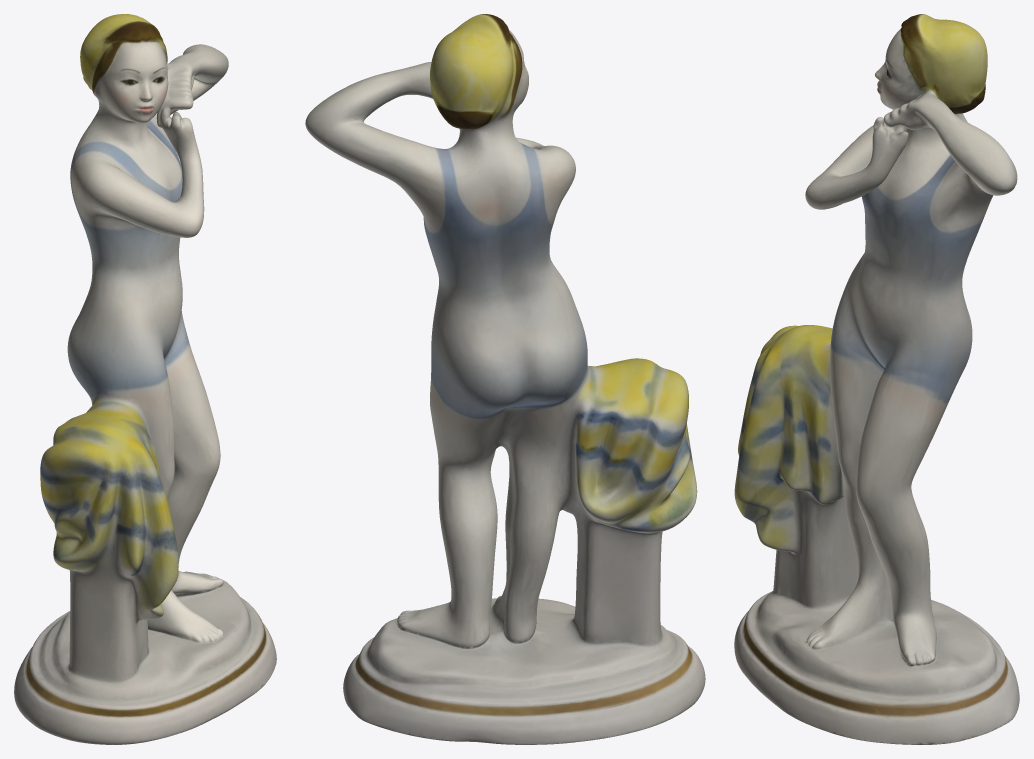
File: bather.glb
3 views of the same model, side by side, from view 1: azimuth 30°, elevation 25°; view 2: azimuth 150°, elevation 25°; view 3: azimuth 270°, elevation 25° (orthographic). The views are drawn at different scales.
Size of the model in its own units: 0.0741 by 0.165 by 0.064.
Materials: 1 (1 with a texture image).
